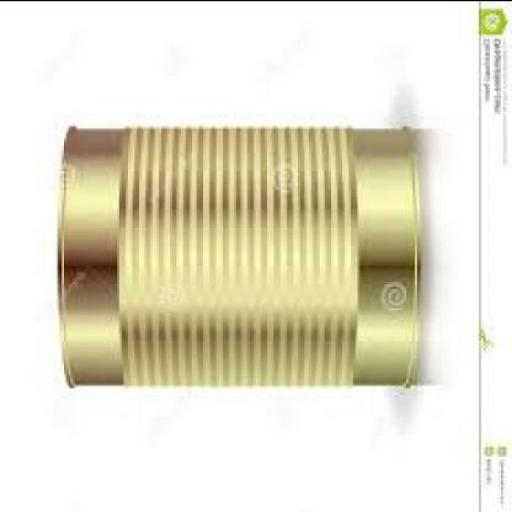metal: (54, 123, 422, 387)
